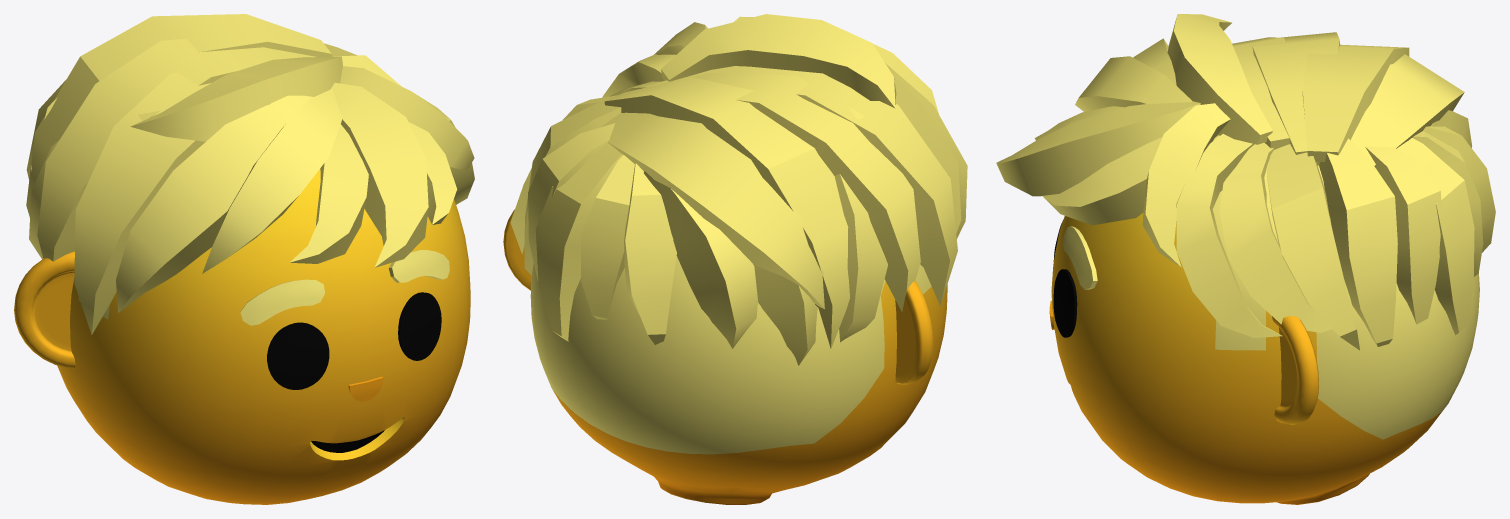
Rendered from person_blond_hair.glb.
3 renders of one model, left to right at view 1: azimuth 30°, elevation 25°; view 2: azimuth 150°, elevation 25°; view 3: azimuth 270°, elevation 25°, orthographic. The views are drawn at different scales.
Visible parts, largest first — view 1: Cube.235, Roundcube.007, Circle.304, ears.005, Circle.306, Circle.305; view 2: Cube.235, Roundcube.007, ears.005; view 3: Cube.235, Roundcube.007, ears.005, Circle.304, Circle.306.
Part boxes in pixels (<box>): Cube.235: <box>26,14,474,334</box>; Roundcube.007: <box>57,168,470,504</box>; Circle.304: <box>267,292,441,389</box>; ears.005: <box>14,251,75,368</box>; Circle.306: <box>240,250,449,325</box>; Circle.305: <box>348,376,383,401</box>; Cube.235: <box>510,14,967,365</box>; Roundcube.007: <box>530,256,947,504</box>; ears.005: <box>503,209,933,384</box>; Cube.235: <box>996,14,1495,350</box>; Roundcube.007: <box>1051,135,1479,504</box>; ears.005: <box>1272,315,1318,424</box>; Circle.304: <box>1053,221,1077,337</box>; Circle.306: <box>1062,226,1097,289</box>.
Size of the model in its own units: 1.76 by 1.73 by 1.77.
Materials: 2 (2 with a texture image).
